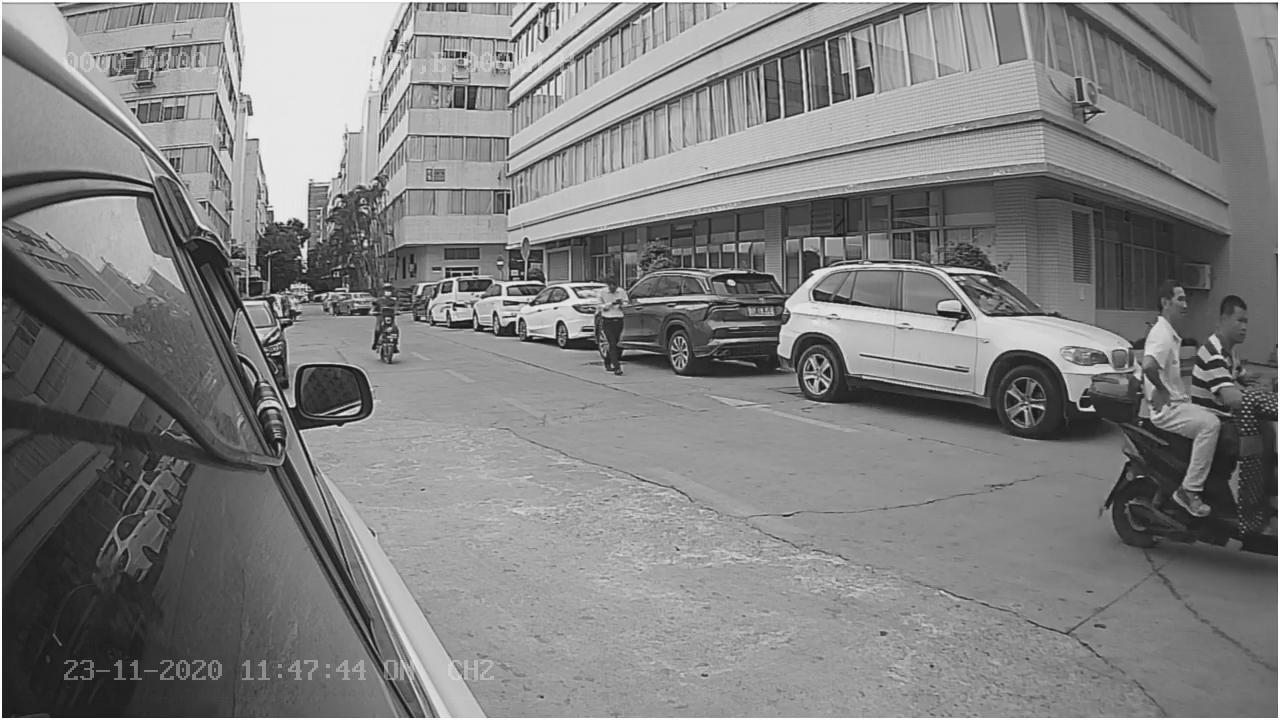person: (1185, 282, 1261, 413)
